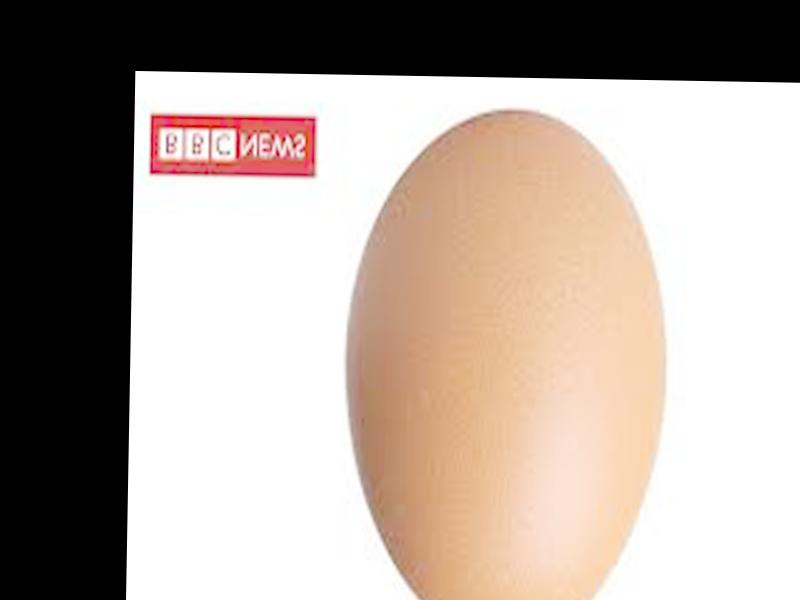Eggs: (341, 110, 671, 600)
